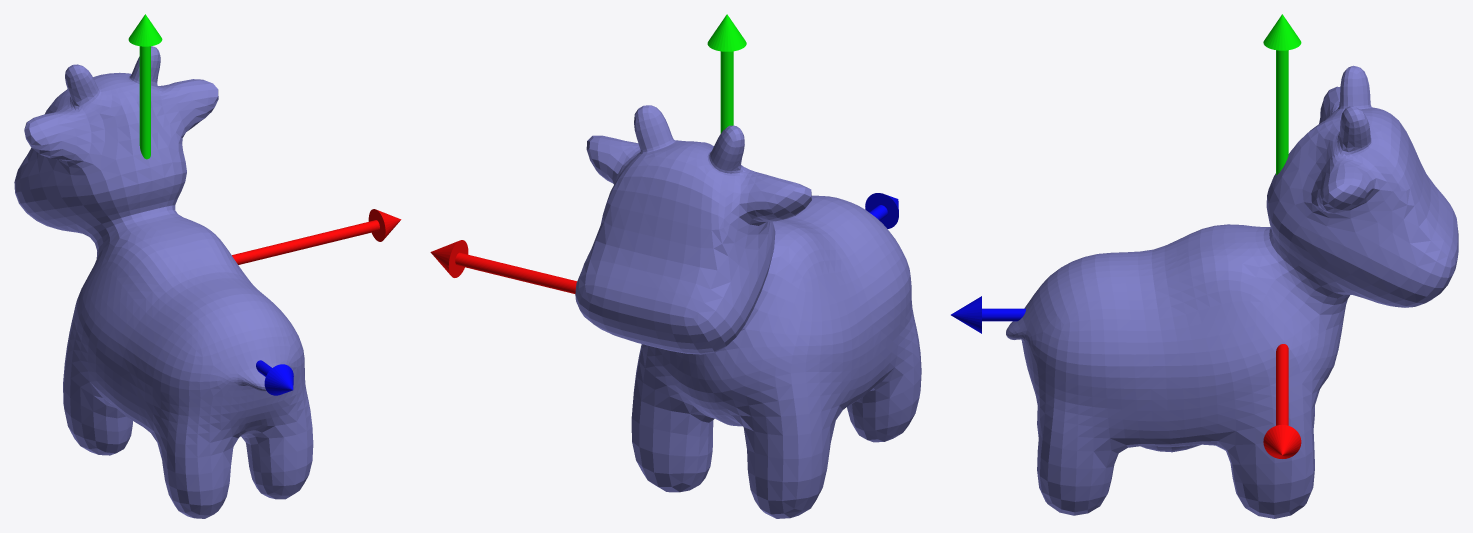
The model's file is cow_with_axis.obj.
3 renders of one model, left to right at view 1: azimuth 30°, elevation 25°; view 2: azimuth 150°, elevation 25°; view 3: azimuth 270°, elevation 25°, orthographic. The views are drawn at different scales.
Size of the model in its own units: 1.73 by 2 by 1.93.
1 material, 1 textured.
